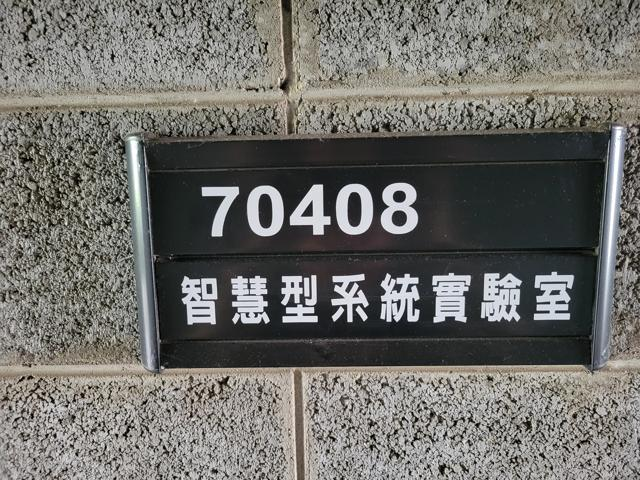doorplate: (115, 116, 631, 380)
